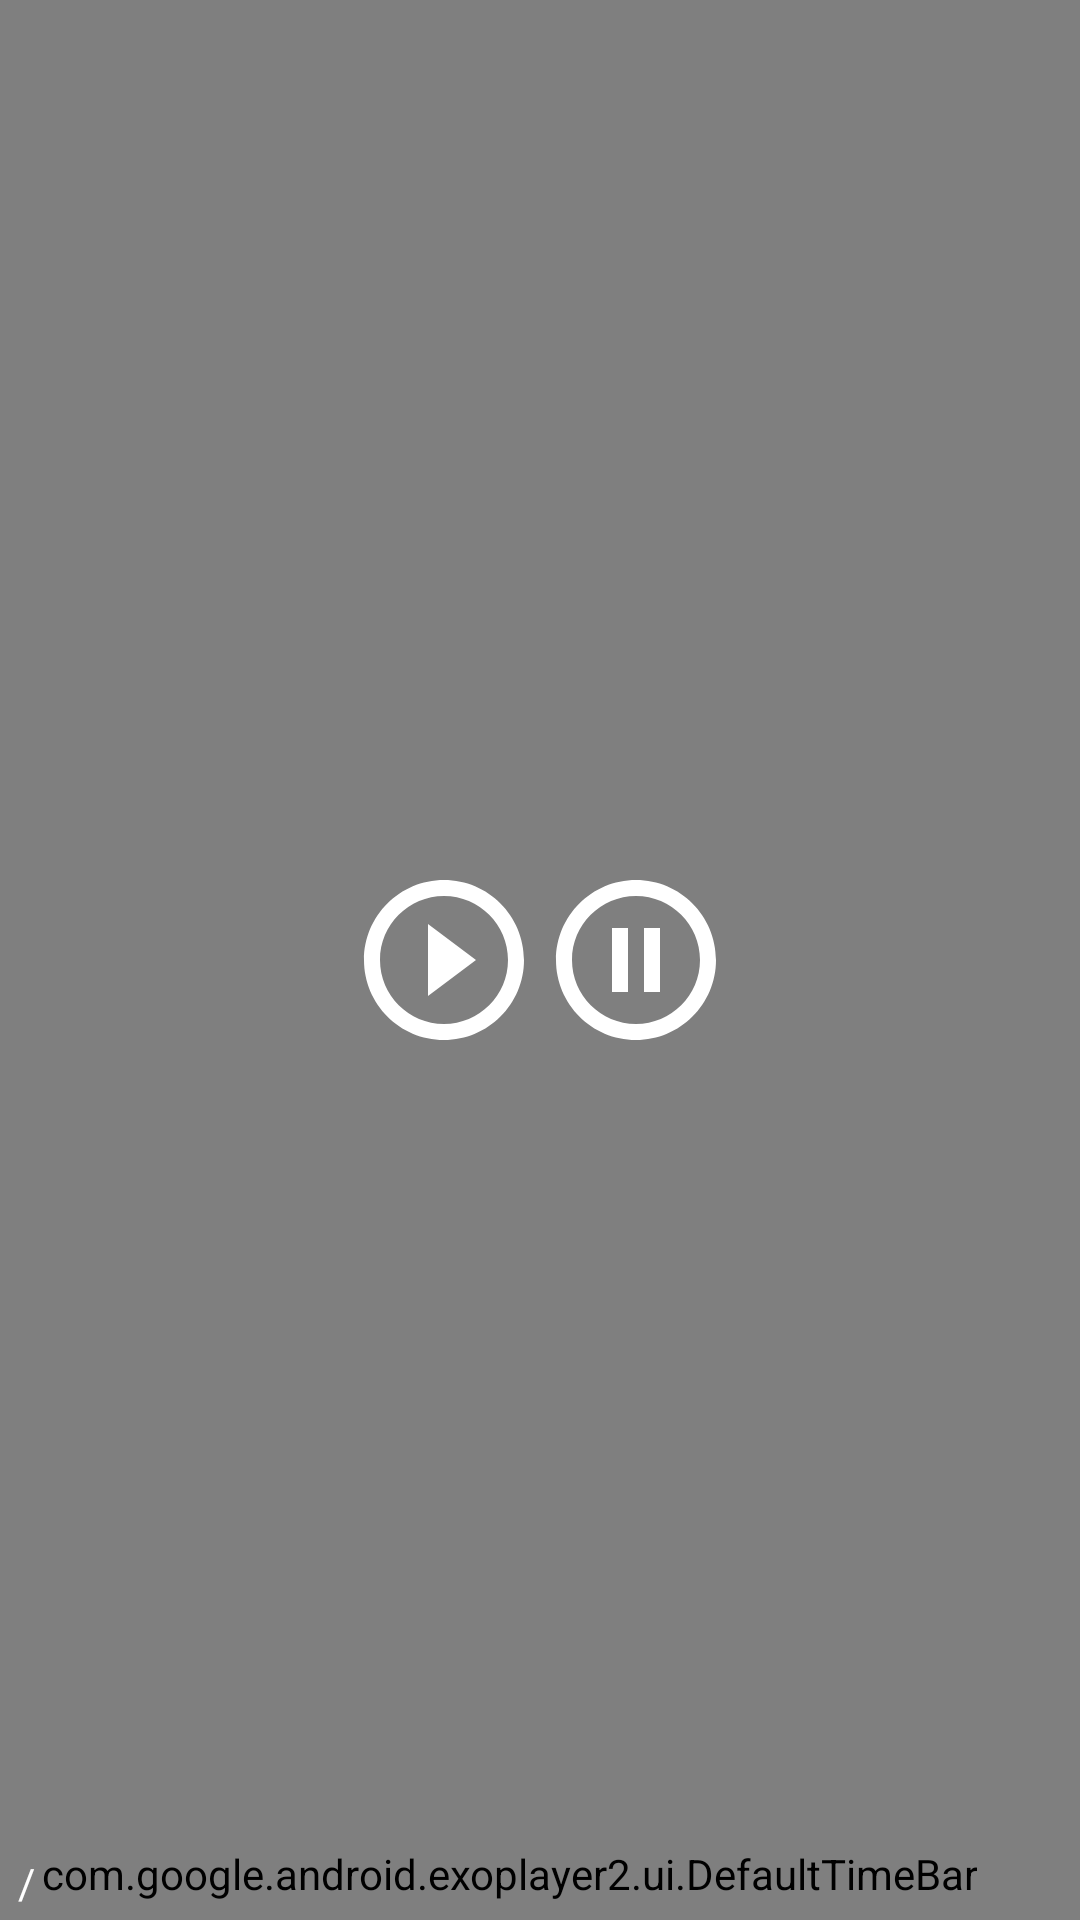

Where icons sit on this 1080×1920 app screen, as [x1=x1, y1=y1, x2=x2, y2=y2]:
pause: [x1=556, y1=880, x2=716, y2=1040]
play: [x1=364, y1=880, x2=524, y2=1040]
